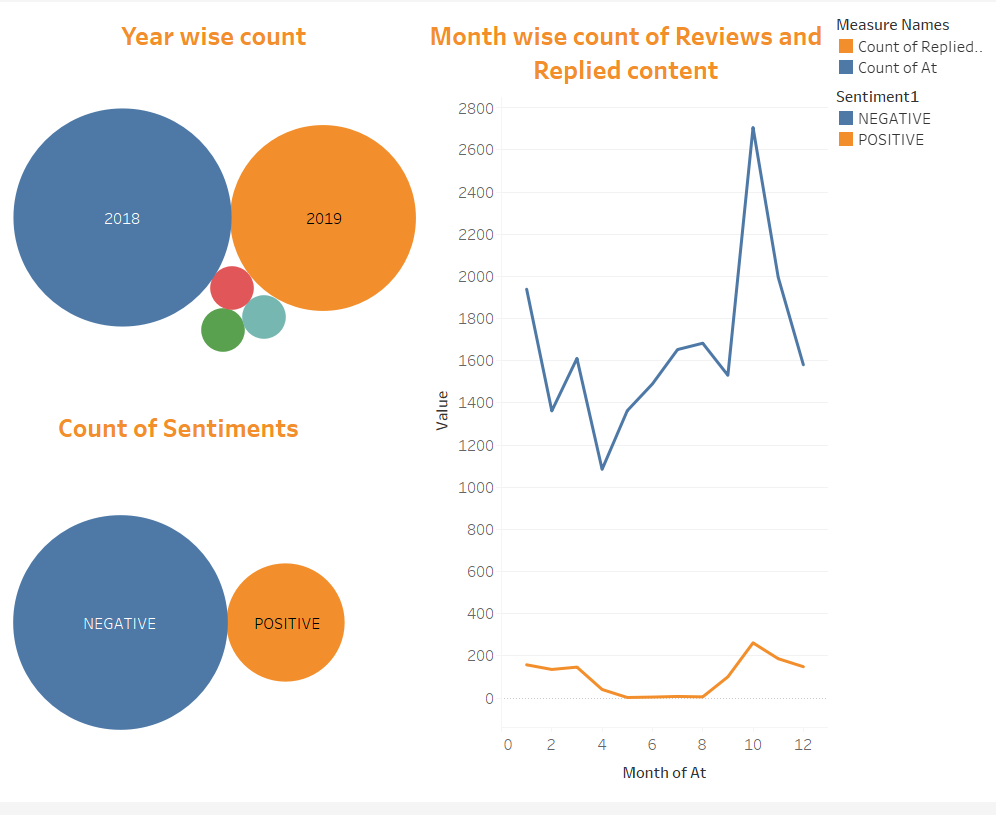

What the dashboard file says about the page in this screenshot:
{"tool":"tableau","page":{"name":"Dashboard 1","canvas":[1000,800],"ordinal":0},"visuals":[{"type":"worksheet","title":"Sheet 1","mark":"Circle","box":[8,8,412,392]},{"type":"worksheet","title":"Sheet 2","mark":"Automatic","cols":["at"],"box":[420,8,412,784]},{"type":"legend","title":"Sheet 2","param":"[federated.1ddzucy0dadkpw12fp1pa0cfsdw6].[:Measure Names]","box":[832,8,160,72]},{"type":"legend","title":"Sheet 3","param":"[federated.1ddzucy0dadkpw12fp1pa0cfsdw6].[none:Sentiment:nk]","box":[832,80,160,72]},{"type":"worksheet","title":"Sheet 3","mark":"Circle","box":[8,400,412,392]}]}

Visuals, with their boxes in screenshot pixels (x1, y1, x2, y2), scaled from the page's 1000x800 canvas onto the 996x815 screenshot:
"Sheet 1" worksheet (Circle marks): [8,8,418,408]
"Sheet 2" worksheet: [418,8,829,807]
"Sheet 2" legend: [829,8,988,82]
"Sheet 3" legend: [829,82,988,155]
"Sheet 3" worksheet (Circle marks): [8,408,418,807]
